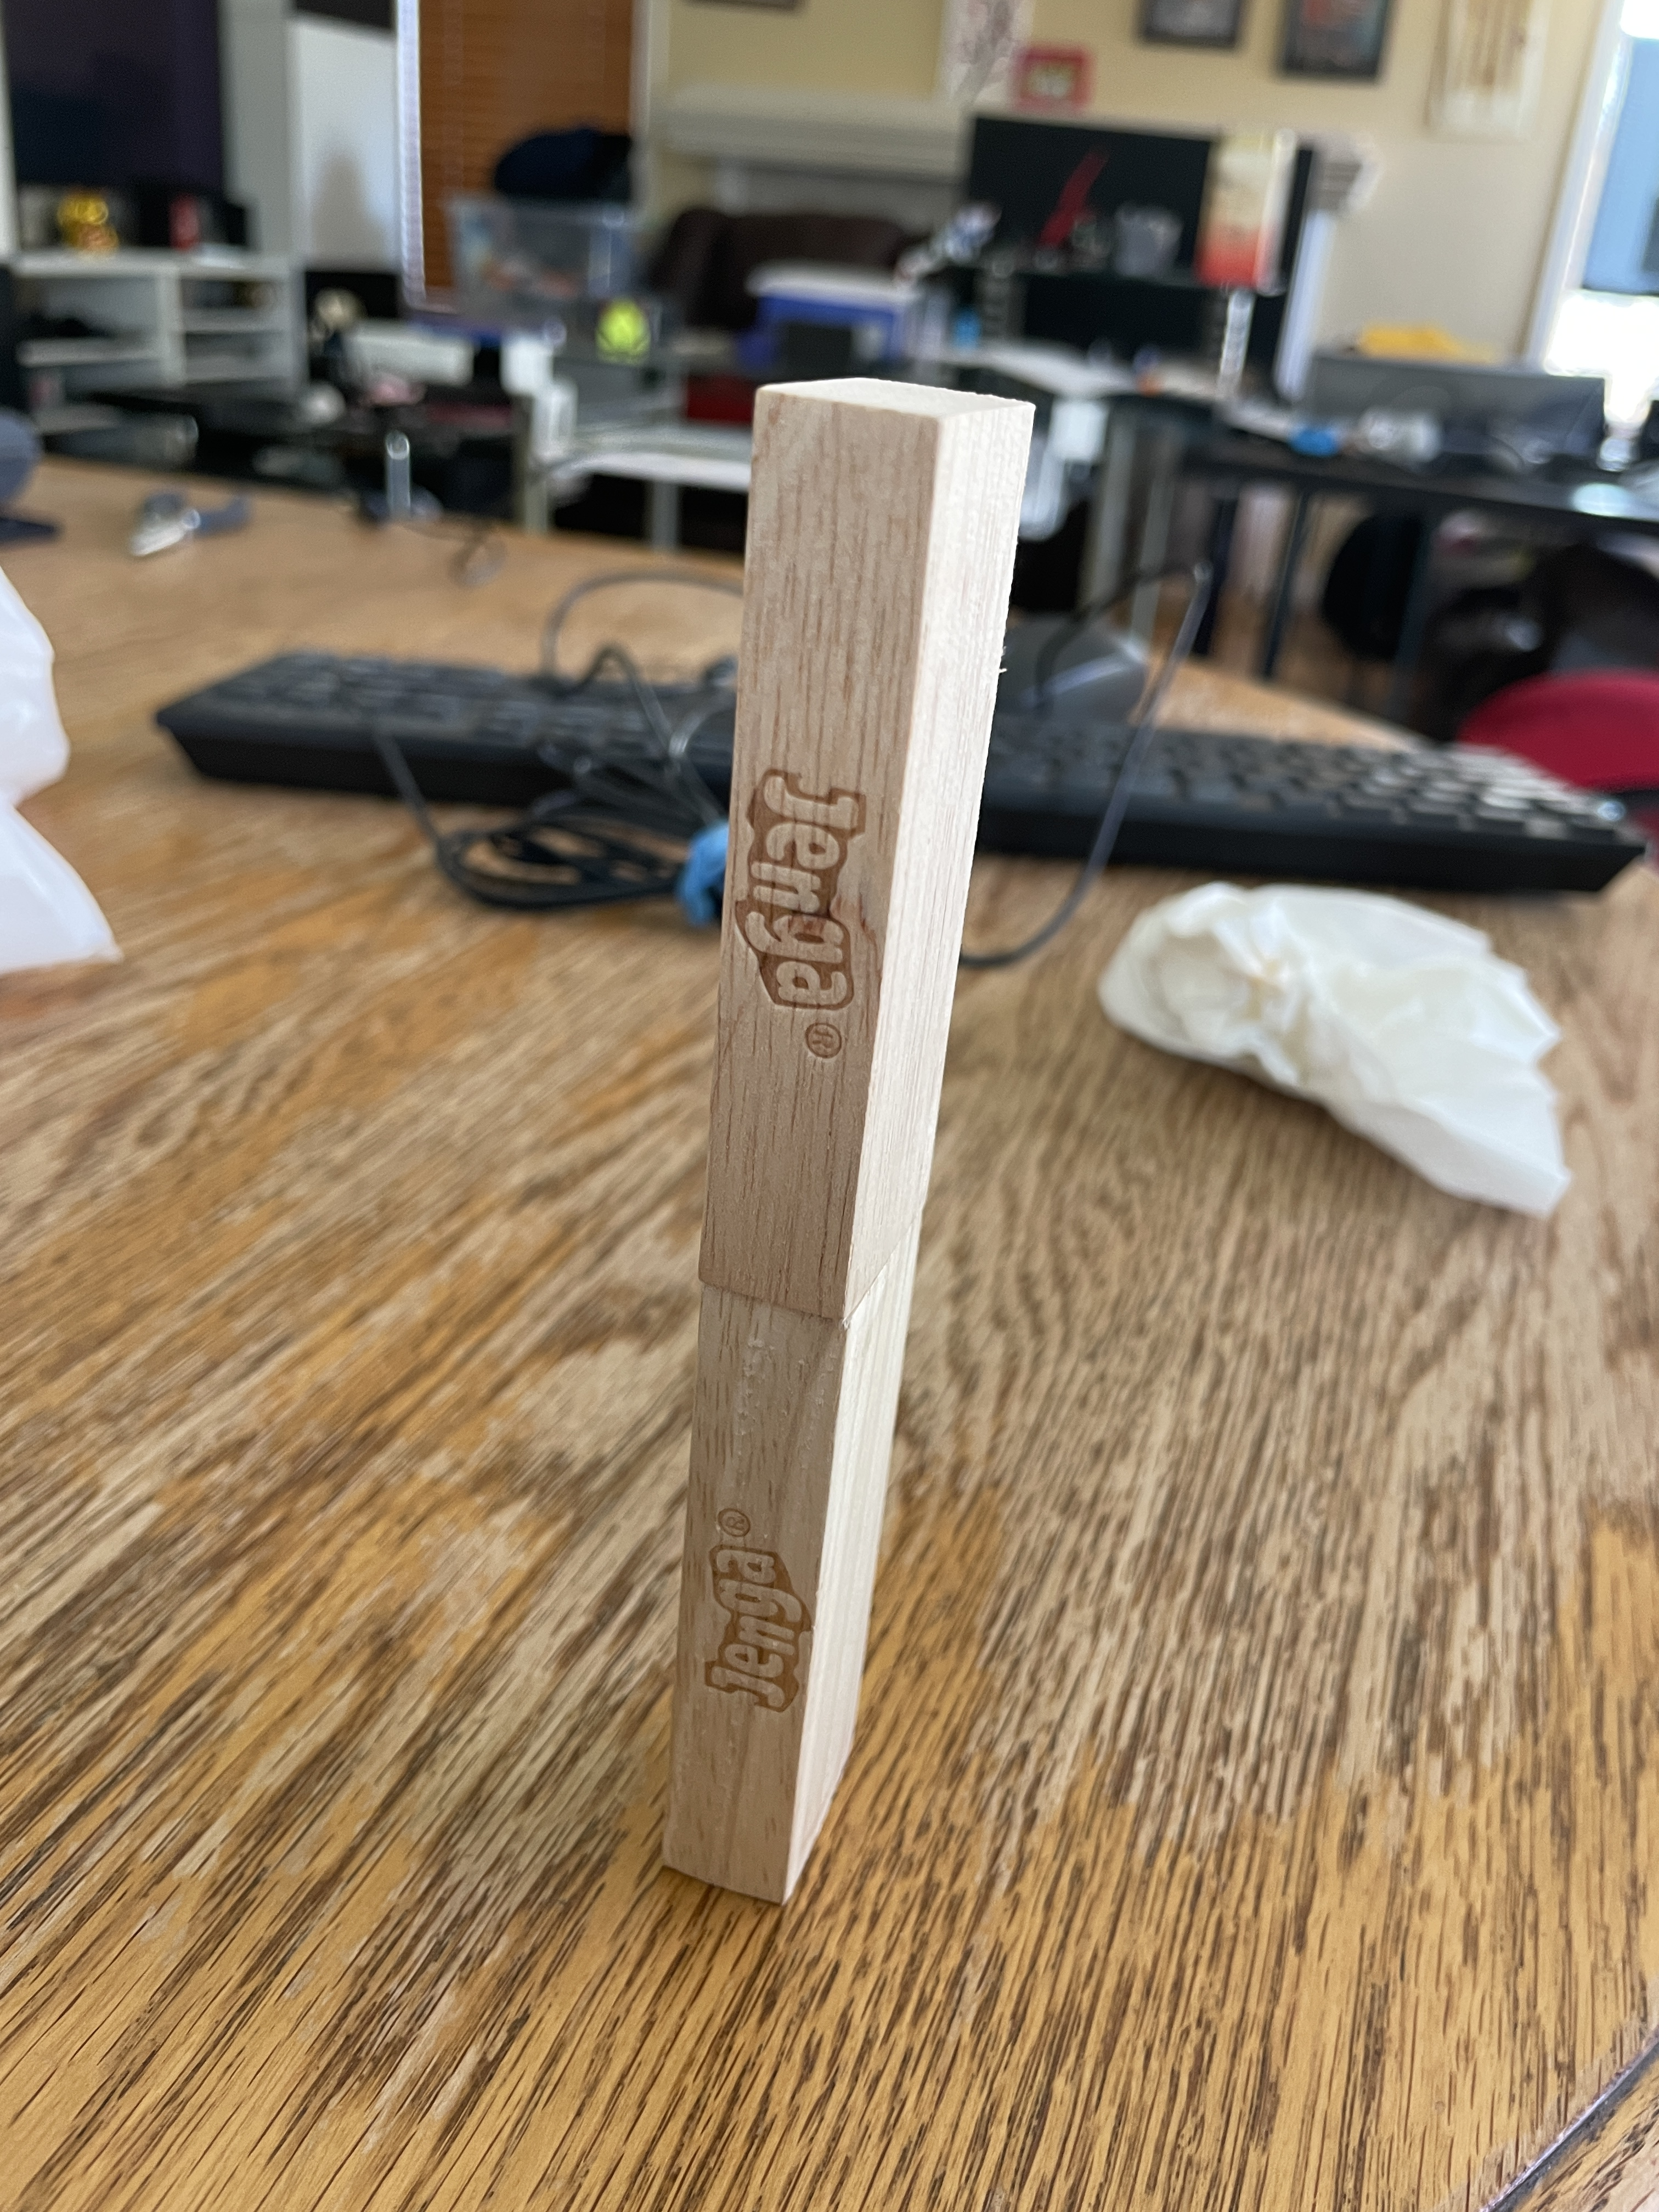jenga: (741, 381, 1032, 1324), (660, 1301, 894, 1912)
